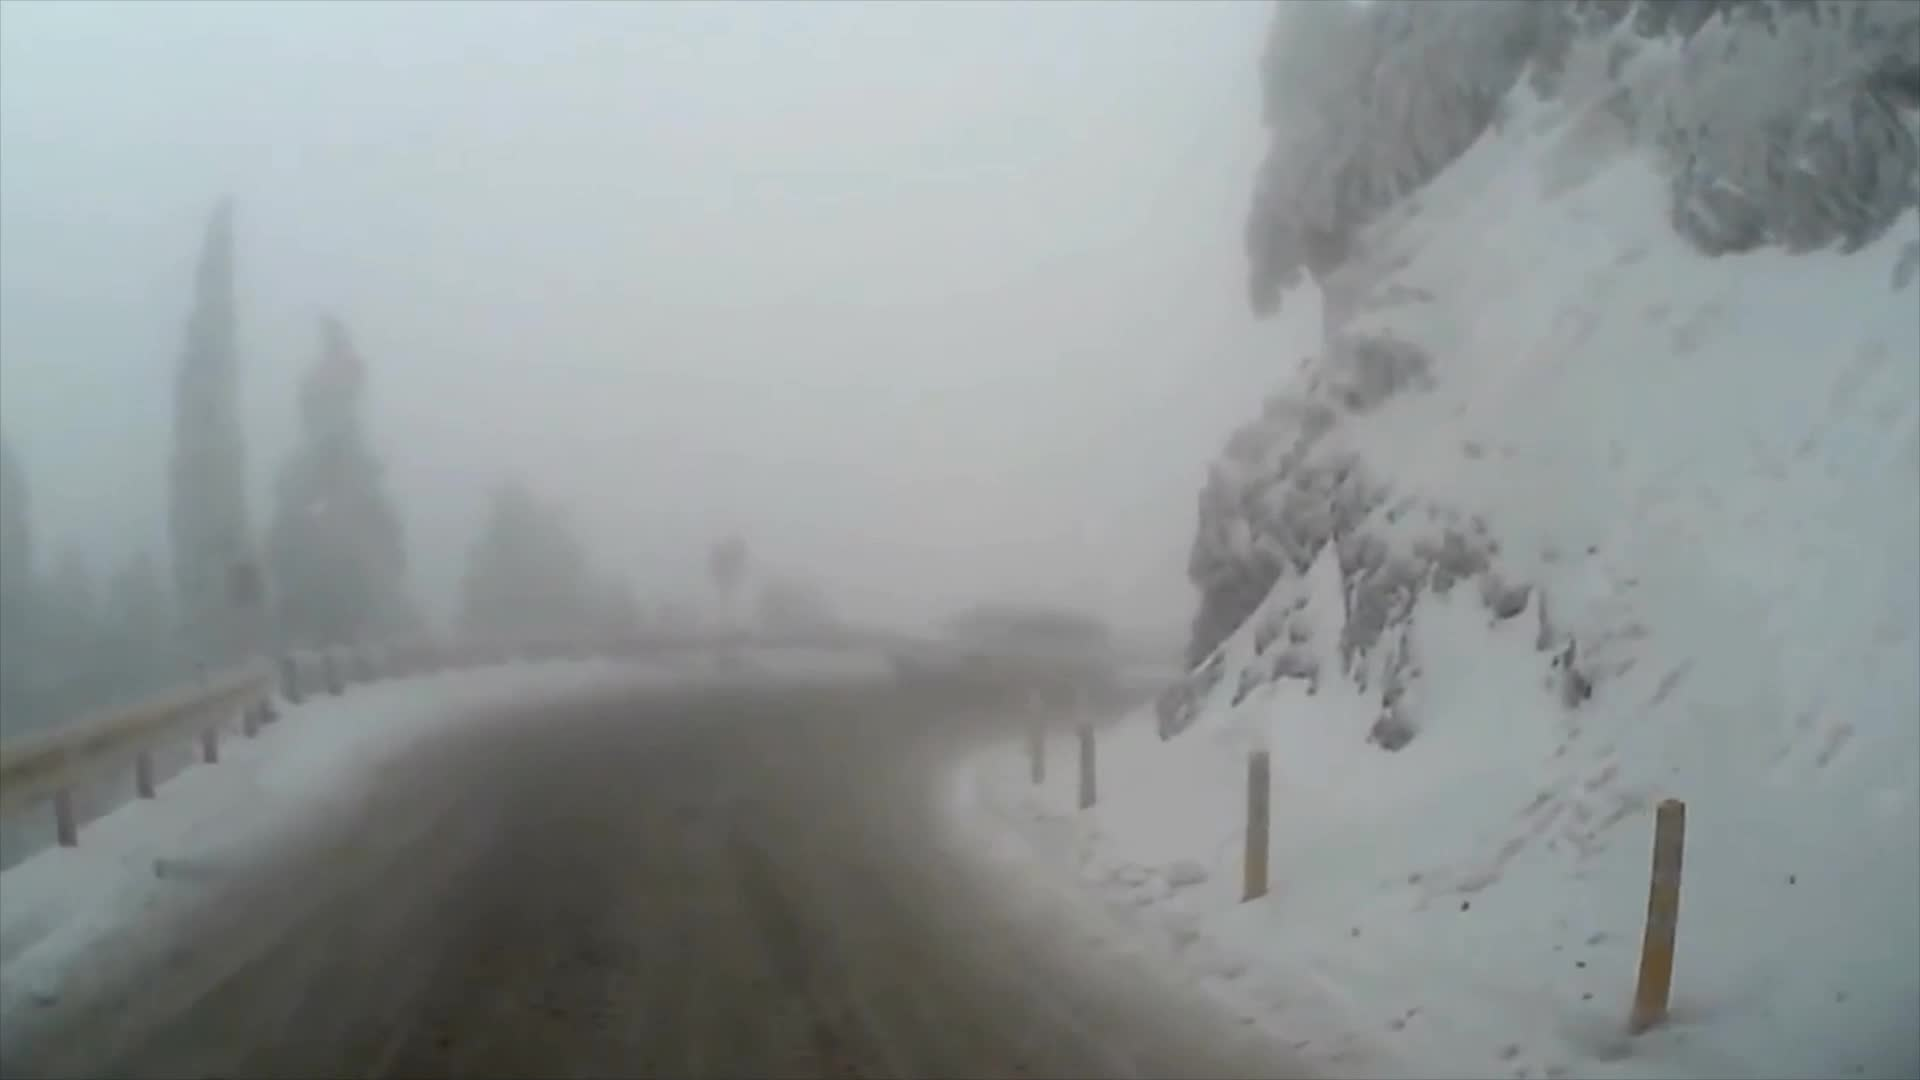vehicle: (884, 589, 1121, 707)
